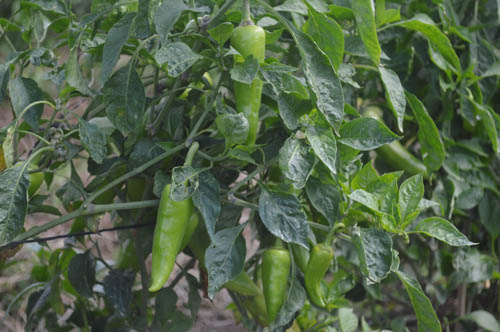ChiliPepper: (152, 180, 189, 293), (229, 30, 266, 142), (379, 135, 433, 177), (256, 251, 286, 315), (303, 247, 332, 308)
